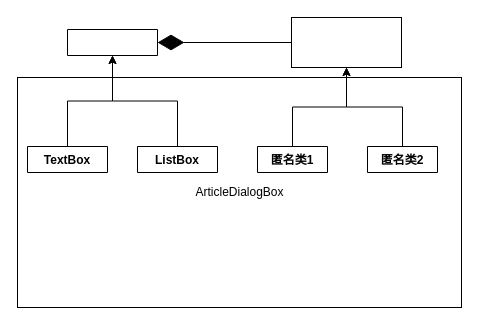
Some shapes in this 479 by 325 pixel diagram are drawn without their labels. Here are the shapes that lost their labels. From the top down, the centre of each, then its label:
At (x=112, y=42): "UIControl".
At (x=346, y=42): "«interface» EventHandler".
